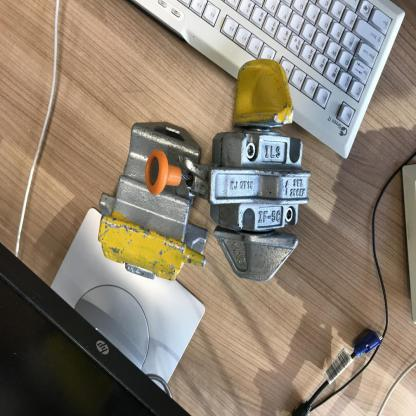Twistlock: (210, 53, 316, 292), (95, 115, 213, 284)
